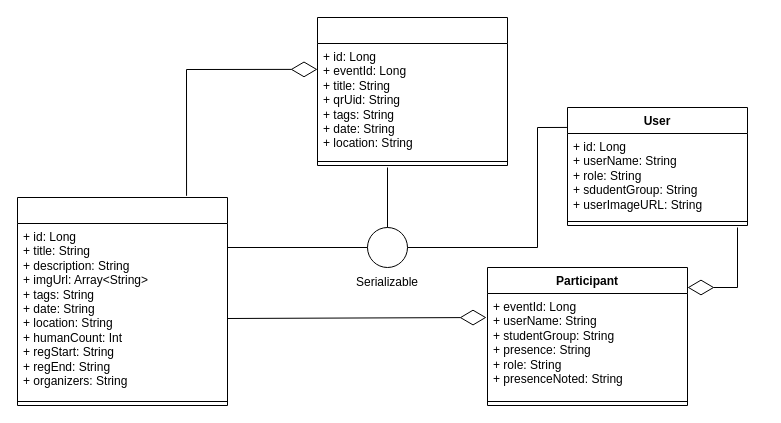
This 781x423 diagram has some shape labels left out. The shapes that lost their labels are listed below. From the top down, each one's box as (x1, y1, x2, y2) in pixels, then its label:
(316, 16, 508, 166): MyEvent
(16, 196, 228, 406): Event
